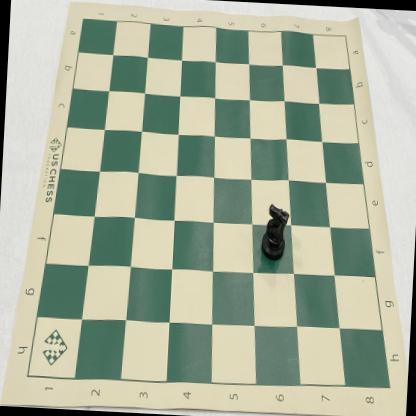knight: (260, 202, 290, 264)
